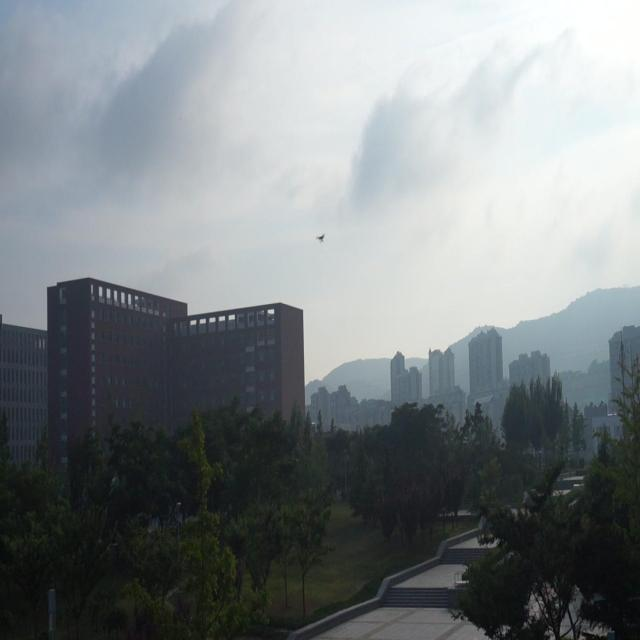drone: (316, 228, 326, 247)
